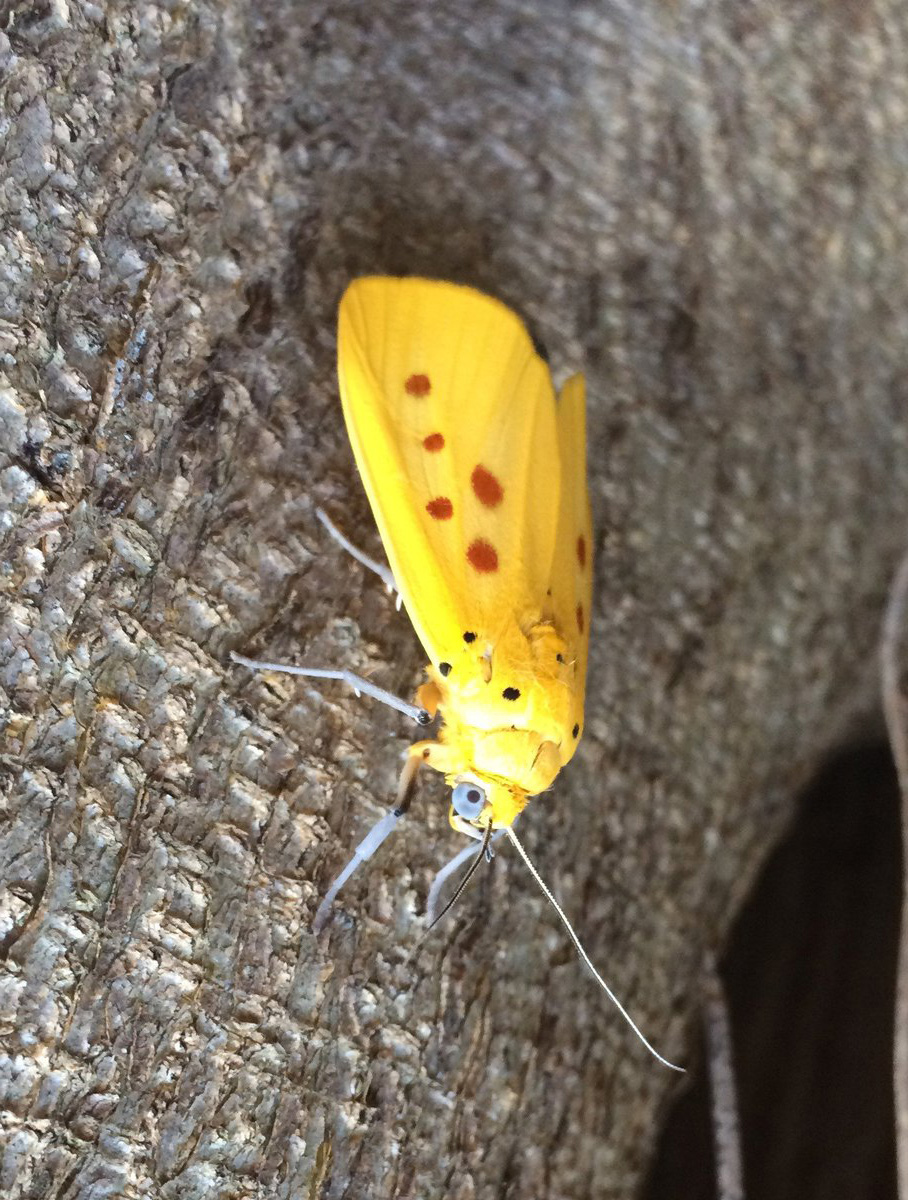Agape chloropyga: (228, 261, 709, 1089)
moth: (226, 259, 707, 1087)
